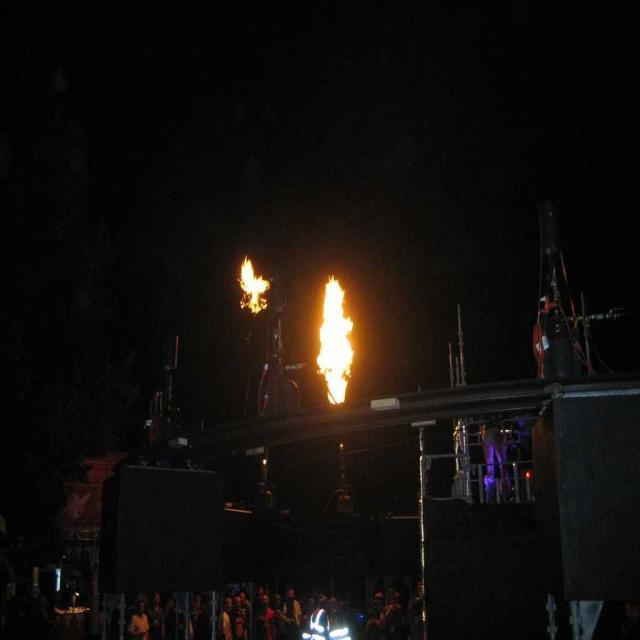Fire: (318, 276, 351, 416), (232, 253, 270, 314)
